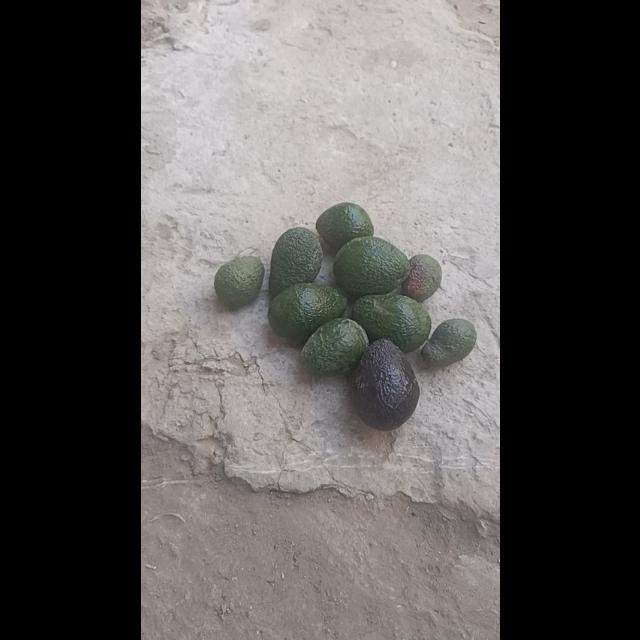Primera: (348, 338, 418, 427), (266, 281, 344, 343), (332, 236, 410, 296), (353, 293, 431, 352), (268, 227, 322, 296), (314, 201, 374, 251)
Segunda: (298, 316, 368, 376), (212, 255, 264, 309)
Tercera: (422, 317, 476, 369), (401, 254, 443, 302)
